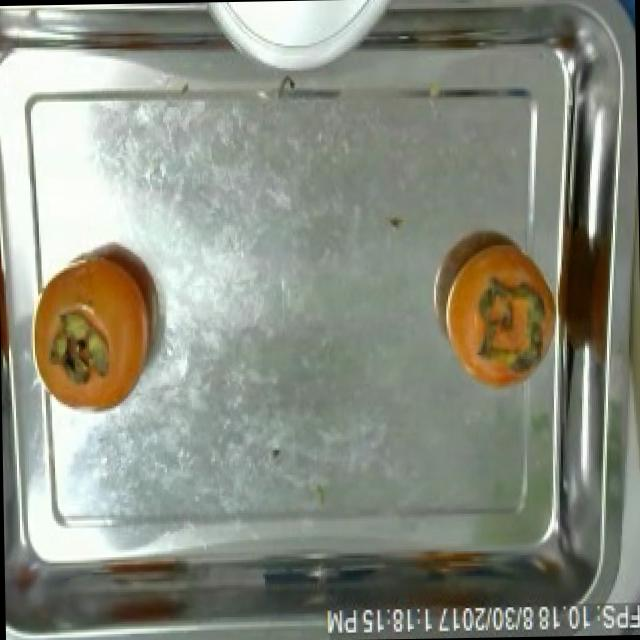Fruit: (29, 226, 170, 424), (434, 222, 554, 402)
